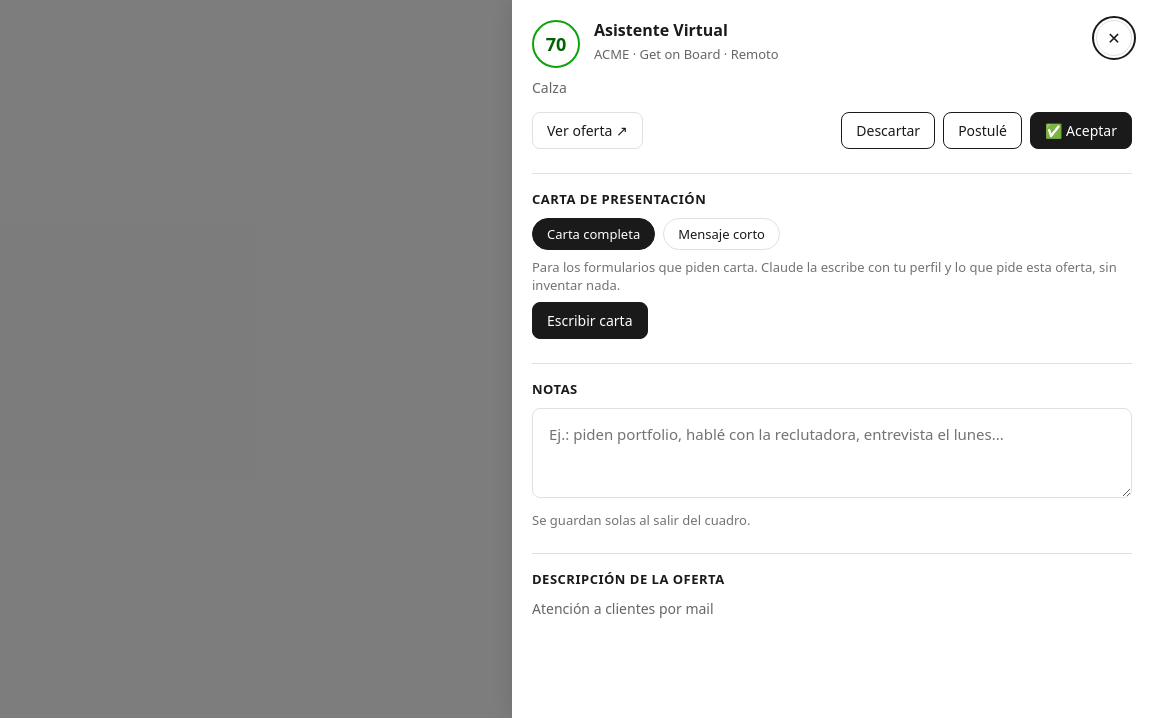
Test: DetalleOferta › 'Escribir carta' pide la carta a la API y la muestra para editar
The image size is (1152, 718).
Click the button "Escribir carta" at (590, 321), box [532,302,648,339]
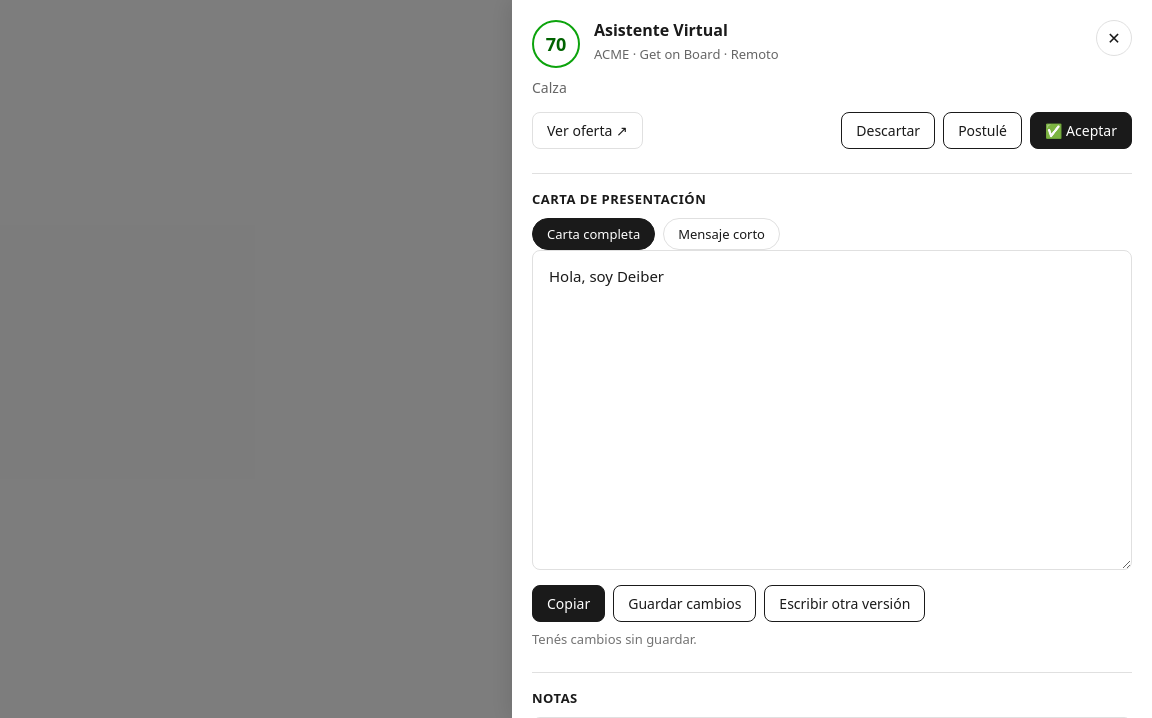
Expected: the text box named "Carta de presentación" holds "Hola, soy Deiber", [532,250,1132,570]
